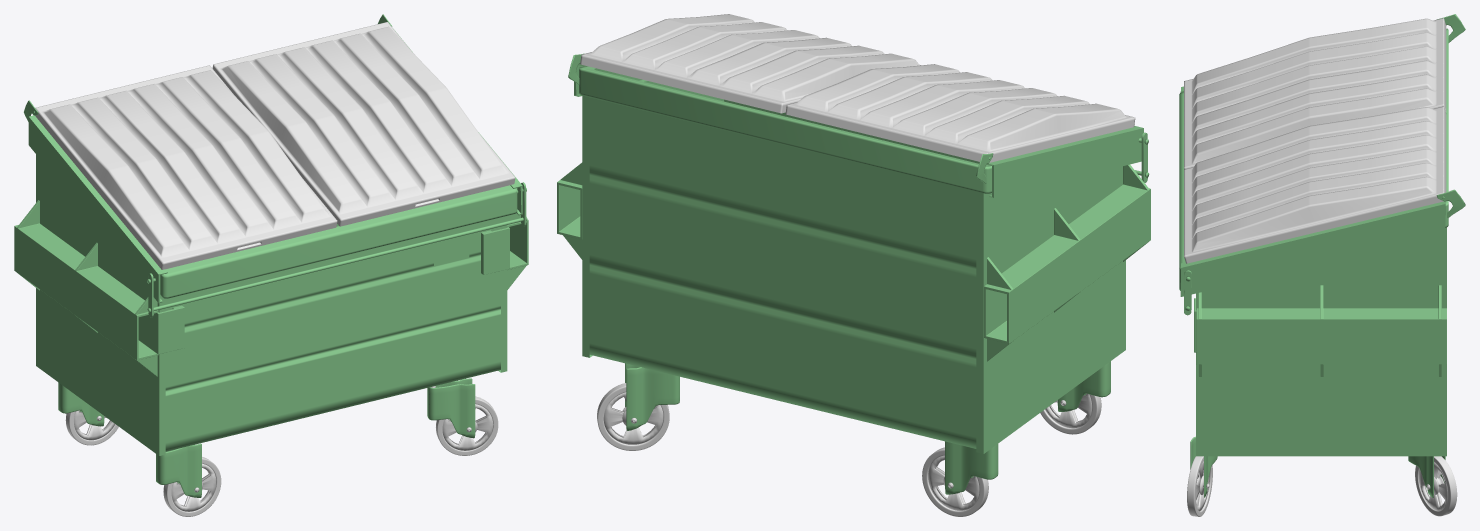
File: uploads_files_3503769_Dumpster_01.fbx
The picture shows the model from 3 angles, left to right: view 1: azimuth 30°, elevation 25°; view 2: azimuth 150°, elevation 25°; view 3: azimuth 270°, elevation 25°; orthographic projection. The views are drawn at different scales.
Parts seen in each view (by area): view 1: Plane; view 2: Plane; view 3: Plane.
Boxes of the visible parts, box(x1,y1,x2,y2) form: Plane: box(14, 14, 528, 516); Plane: box(557, 14, 1150, 516); Plane: box(1179, 14, 1465, 516).
Bounding box in the file's own units: 103 × 84.73 × 63.82.
